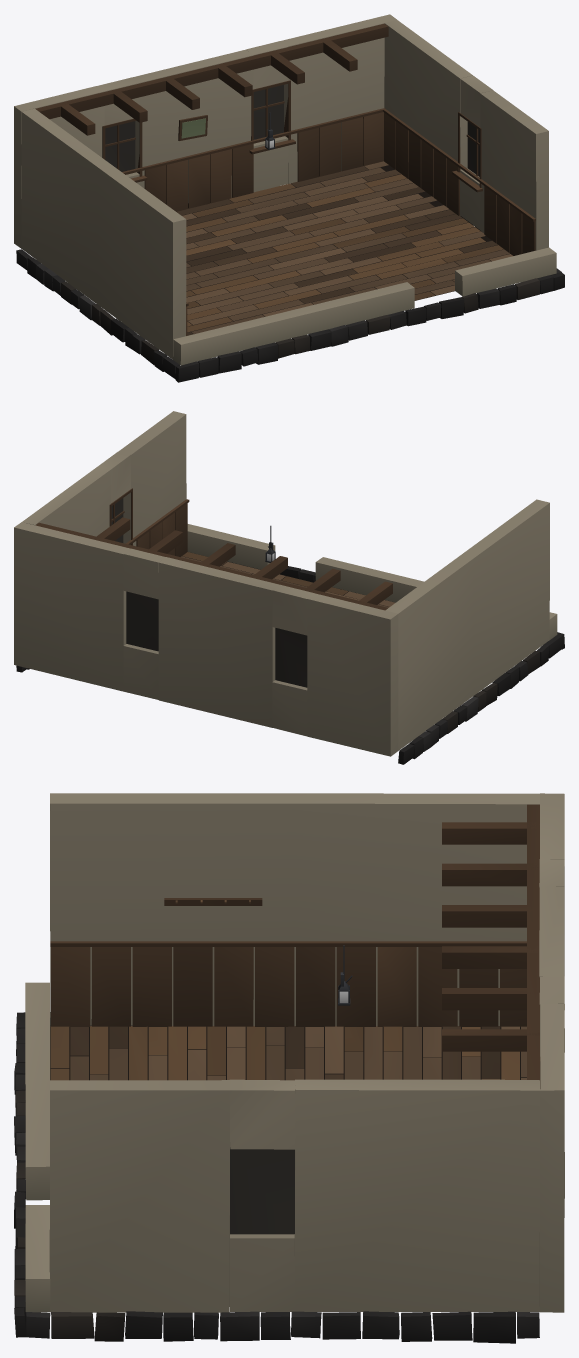
File: ph_int_inn_room.glb
3 views of the same model, one above another, from view 1: azimuth 30°, elevation 25°; view 2: azimuth 150°, elevation 25°; view 3: azimuth 270°, elevation 25° (orthographic). The views are drawn at different scales.
Parts seen in each view (by area): view 1: ph_int_inn_room; view 2: ph_int_inn_room; view 3: ph_int_inn_room.
Part boxes in pixels (x1,y1,x2,y2): ph_int_inn_room: (14,14,564,382); ph_int_inn_room: (14,411,564,764); ph_int_inn_room: (14,793,564,1343).
Bounding box in the file's own units: 8.9 × 3.37 × 6.75.
